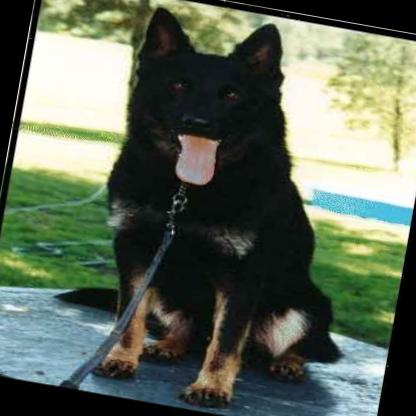German_shepherd: (35, 0, 397, 416)
